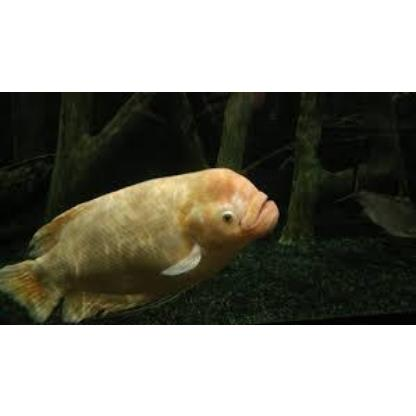gurame: (1, 166, 286, 324)
